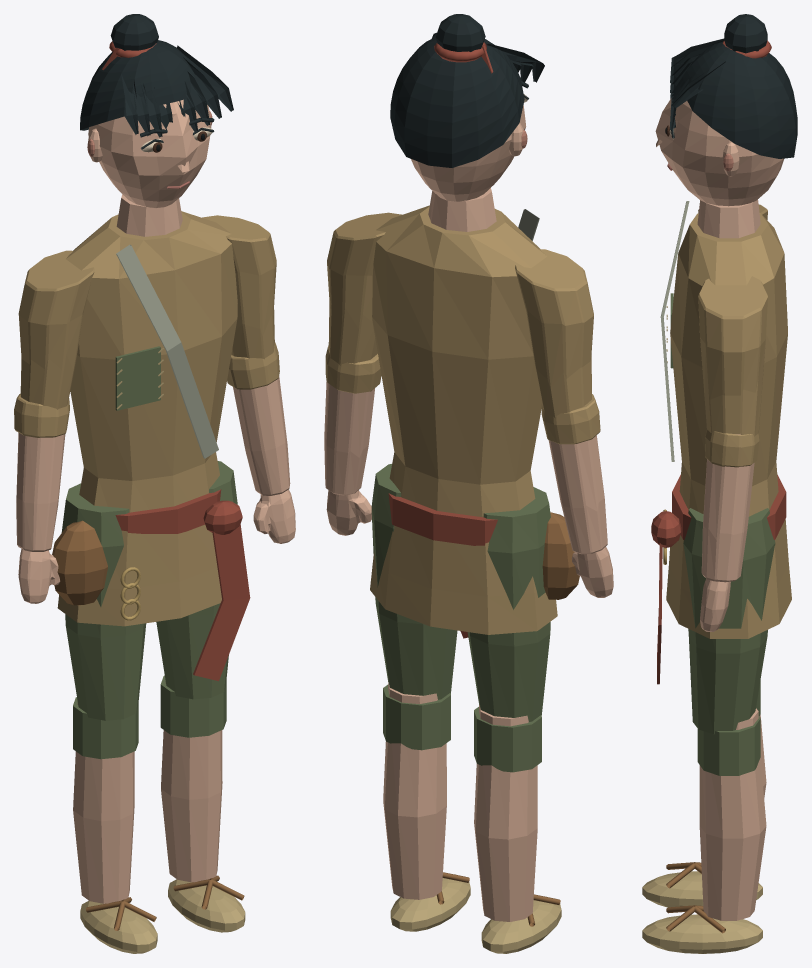
The model's file is ashi.glb.
3 renders of one model, left to right at view 1: azimuth 30°, elevation 25°; view 2: azimuth 150°, elevation 25°; view 3: azimuth 270°, elevation 25°, orthographic. The views are drawn at different scales.
Parts seen in each view (by area): view 1: Chest, Head, Shin_R, Shin_L, Thigh_L, Arm_L, Fore_L, Fore_R, Arm_R, Thigh_R, Foot_R, Foot_L (+2 smaller); view 2: Chest, Head, Shin_L, Shin_R, Thigh_L, Arm_L, Thigh_R, Arm_R, Fore_L, Fore_R, Foot_R, Foot_L (+2 smaller); view 3: Chest, Head, Shin_R, Thigh_R, Arm_R, Fore_R, Foot_R, Foot_L, Hand_R, Shin_L.
Boxes of the visible parts, x1=… form: Chest: x1=52, y1=194, x2=250, y2=681; Head: x1=80, y1=14, x2=233, y2=208; Shin_R: x1=160, y1=675, x2=226, y2=882; Shin_L: x1=73, y1=697, x2=138, y2=903; Thigh_L: x1=61, y1=483, x2=146, y2=720; Arm_L: x1=18, y1=250, x2=94, y2=409; Fore_L: x1=14, y1=393, x2=69, y2=551; Fore_R: x1=227, y1=342, x2=290, y2=495; Arm_R: x1=202, y1=215, x2=276, y2=359; Thigh_R: x1=156, y1=461, x2=237, y2=699; Foot_R: x1=168, y1=875, x2=245, y2=932; Foot_L: x1=80, y1=897, x2=157, y2=953; Chest: x1=370, y1=188, x2=579, y2=638; Head: x1=390, y1=14, x2=544, y2=201; Shin_L: x1=474, y1=704, x2=541, y2=921; Shin_R: x1=383, y1=682, x2=450, y2=899; Thigh_L: x1=467, y1=487, x2=550, y2=721; Arm_L: x1=515, y1=249, x2=593, y2=417; Thigh_R: x1=371, y1=464, x2=457, y2=699; Arm_R: x1=327, y1=212, x2=401, y2=365; Fore_L: x1=541, y1=394, x2=607, y2=554; Fore_R: x1=324, y1=345, x2=381, y2=495; Foot_R: x1=390, y1=872, x2=470, y2=931; Foot_L: x1=481, y1=894, x2=561, y2=953; Chest: x1=651, y1=199, x2=791, y2=684; Head: x1=655, y1=14, x2=797, y2=206; Shin_R: x1=697, y1=708, x2=766, y2=920; Thigh_R: x1=683, y1=508, x2=775, y2=734; Arm_R: x1=698, y1=276, x2=767, y2=436; Fore_R: x1=701, y1=430, x2=759, y2=582; Foot_R: x1=642, y1=905, x2=762, y2=953; Foot_L: x1=642, y1=862, x2=762, y2=907; Hand_R: x1=700, y1=579, x2=730, y2=631; Shin_L: x1=756, y1=680, x2=766, y2=798.
Bounding box in the file's own units: 0.4365 × 1.37 × 0.212.
